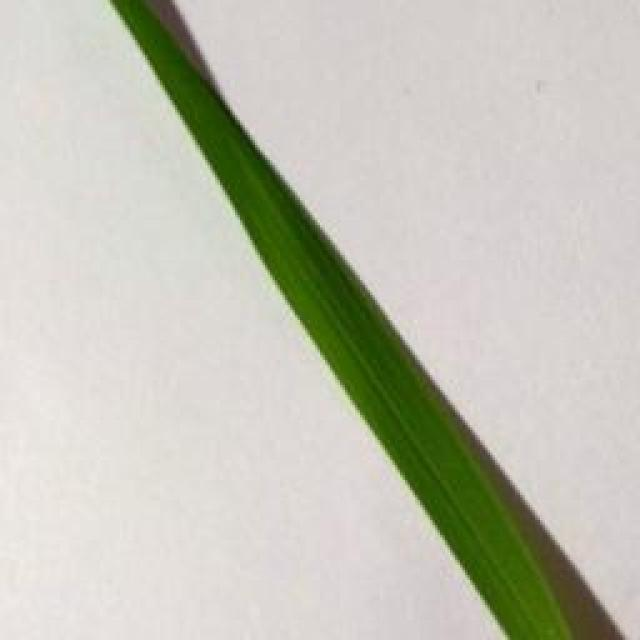Healthy: (112, 0, 579, 640)
